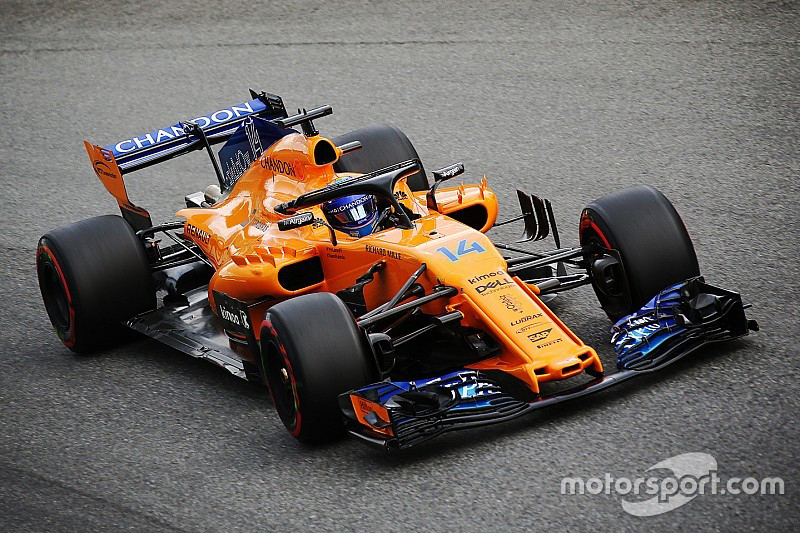F1 Car: (30, 85, 761, 446)
